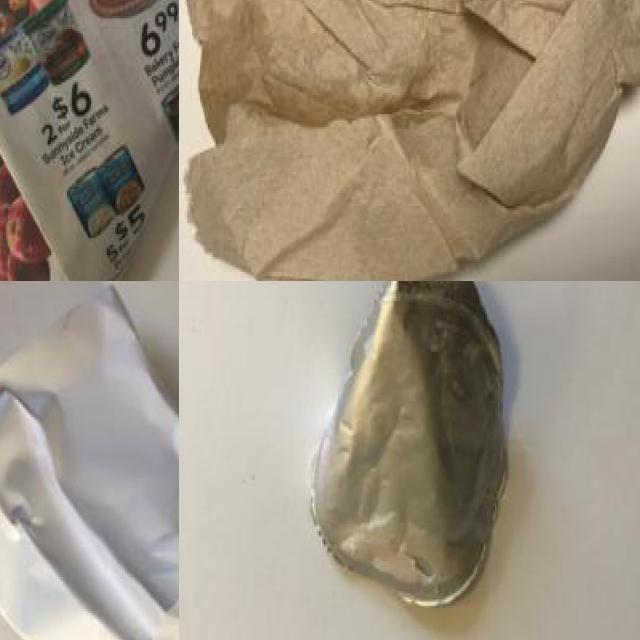paper: (0, 304, 179, 640), (0, 0, 179, 281)
trash: (179, 0, 640, 281), (305, 281, 544, 640)
